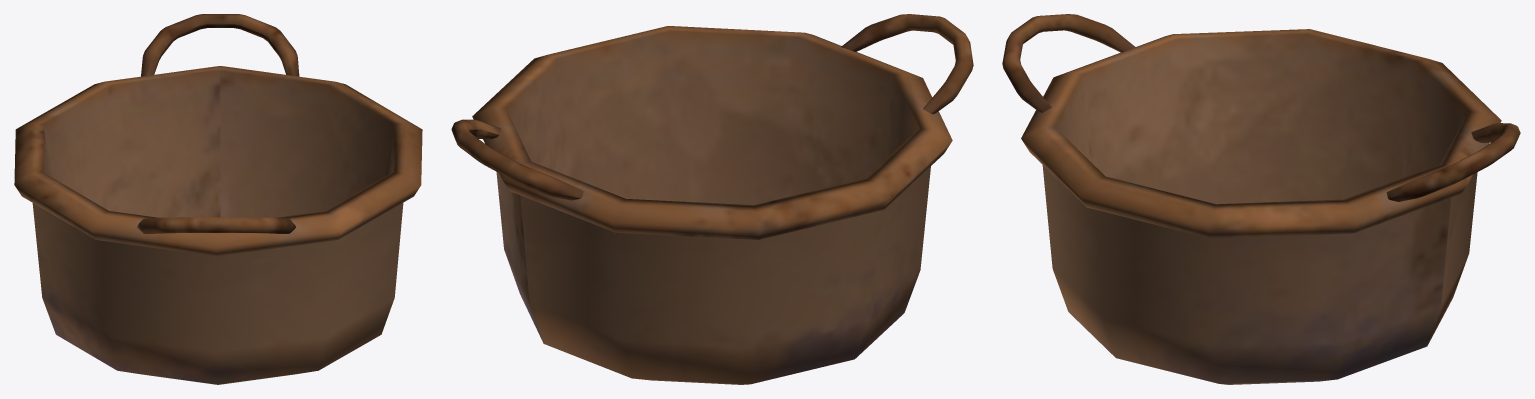
The model's file is pot2.fbx.
3 views of the same model, side by side, from view 1: azimuth 30°, elevation 25°; view 2: azimuth 150°, elevation 25°; view 3: azimuth 270°, elevation 25° (orthographic). The views are drawn at different scales.
Parts seen in each view (by area): view 1: Strove.002; view 2: Strove.002; view 3: Strove.002.
Boxes of the visible parts, box(x1,y1,x2,y2) form: Strove.002: box(14, 14, 422, 384); Strove.002: box(451, 14, 973, 384); Strove.002: box(1002, 14, 1520, 384).
Bounding box in the file's own units: 34.3 × 19.86 × 37.72.
Materials: 1 (1 with a texture image).
